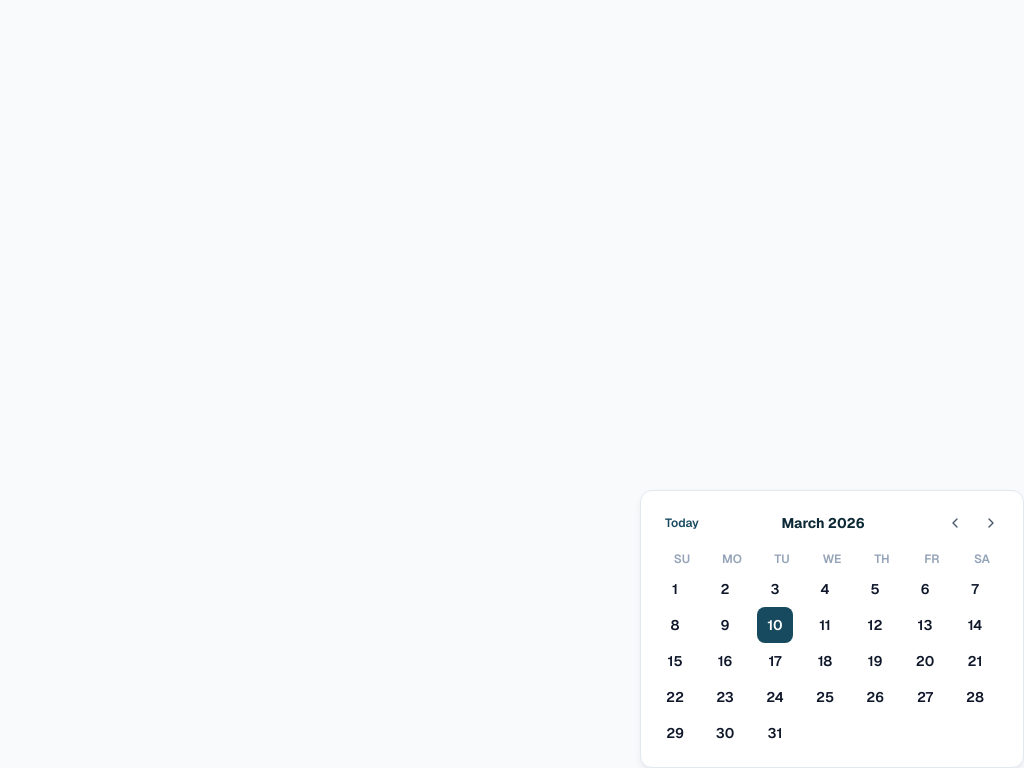
Test: TimeSelectionModal › steps months with the header arrows without losing the selection
(page scrolled)
Click the button named "next month". click: (991, 523)
box: left=975, top=507, right=1007, bottom=539
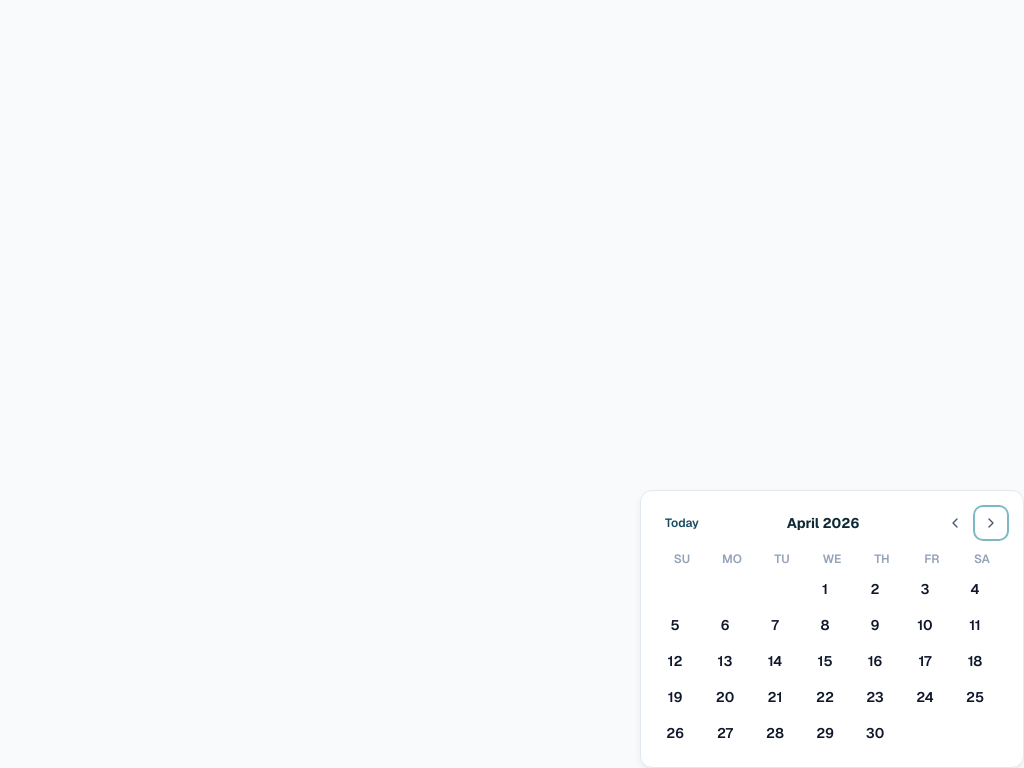
Result: the table named "april 2026" is shown at left=657, top=551, right=1007, bottom=751
Click the button named "previous month". click: (955, 523)
box: left=939, top=507, right=971, bottom=539
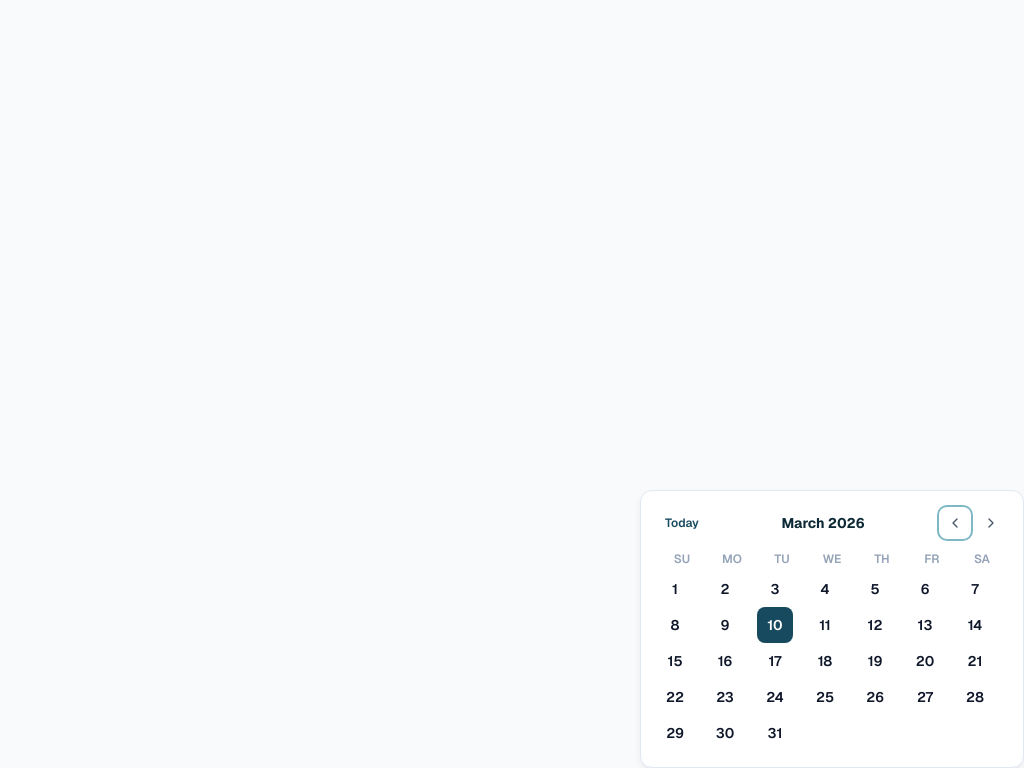
Result: the table named "march 2026" is shown at left=657, top=551, right=1007, bottom=751
